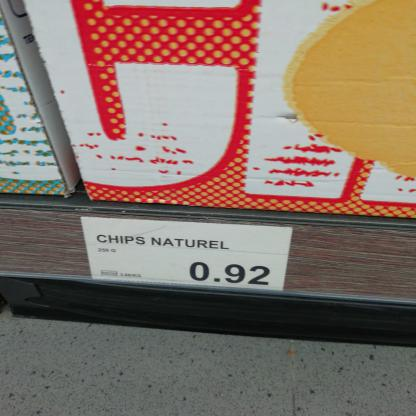prtg: (82, 218, 295, 293)
